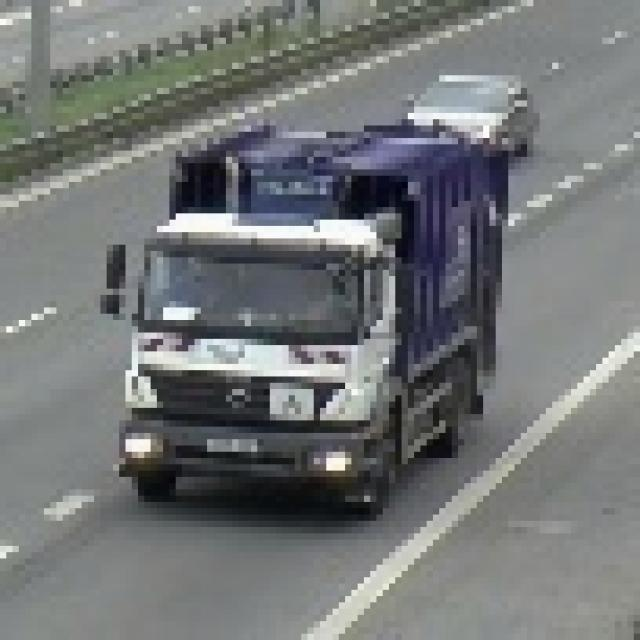truck: (102, 108, 510, 497)
